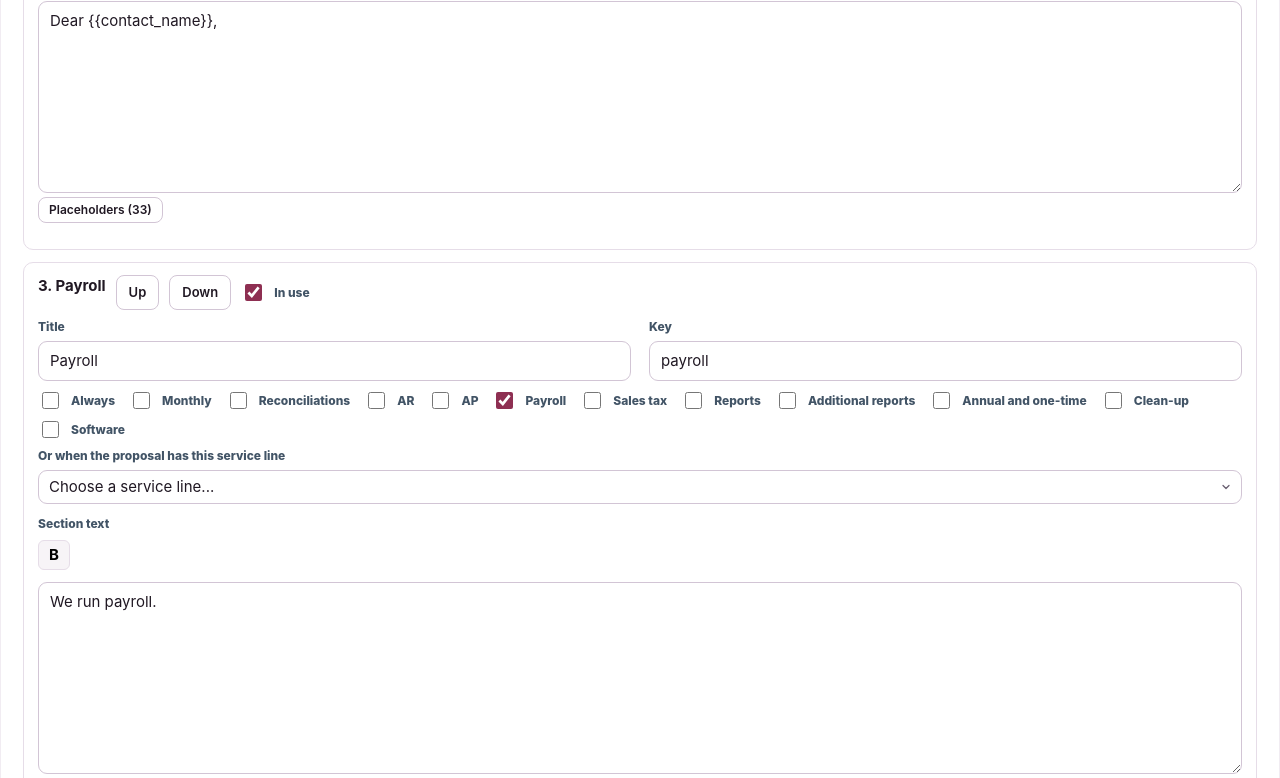
Test: Engagement sections after QA › Always turns the group and service pickers off
This screenshot has width=1280, height=778.
(page scrolled)
Step 1. Click the checkbox labelled "Always" → (50,400), box [42,392,59,409]
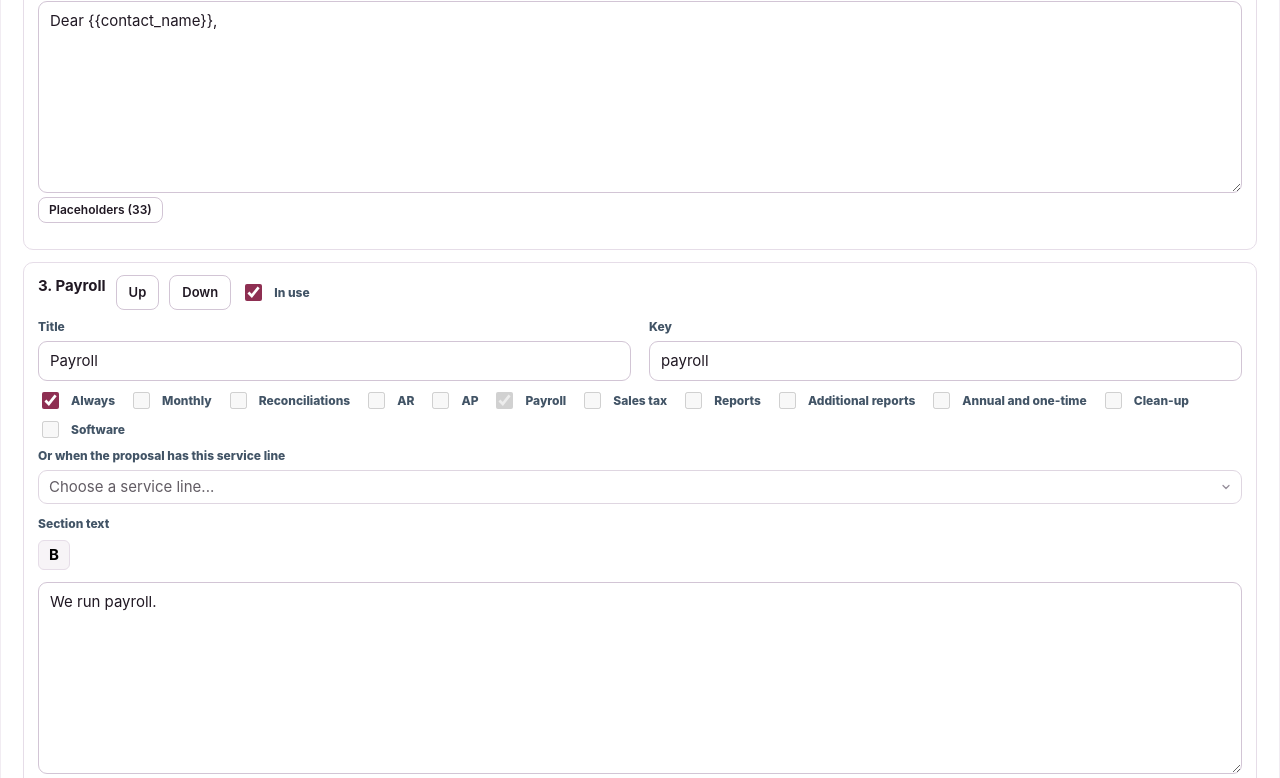
expect the checkbox labelled "Payroll" is disabled: met, box [496,392,514,409]
expect the dropdown named "Add a service line to Payroll" is disabled: met, box [38,470,1242,504]
